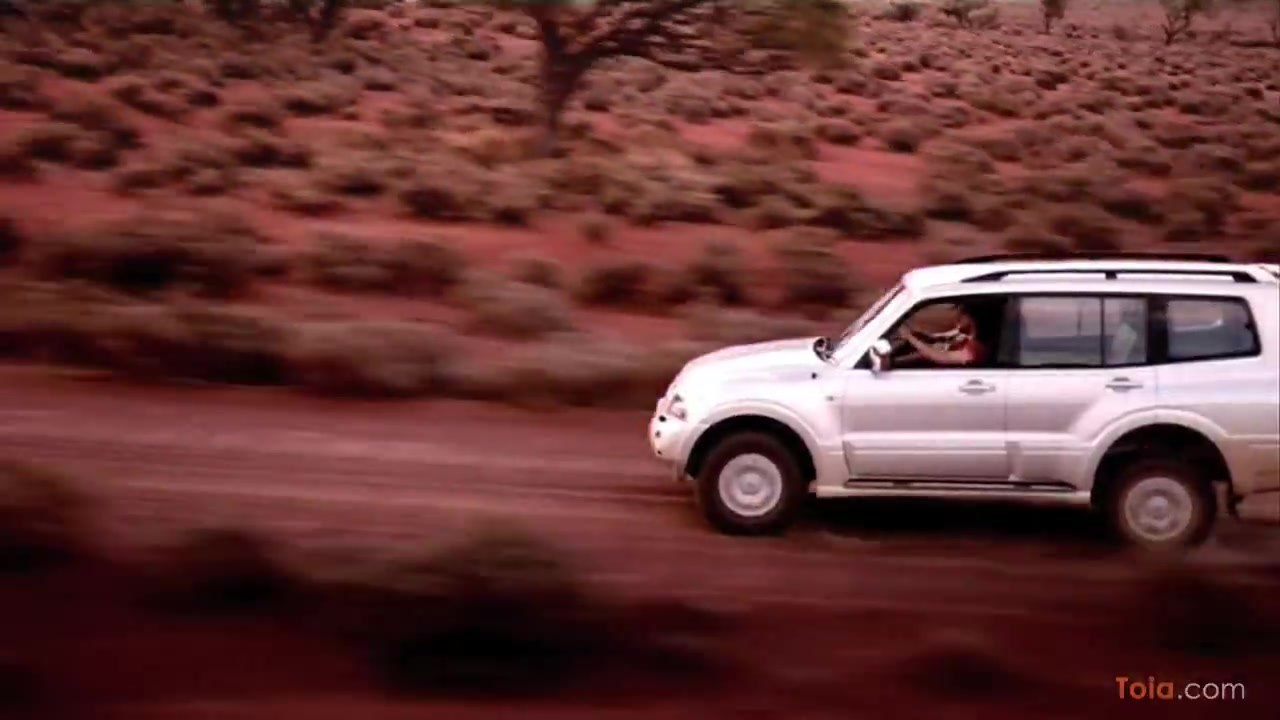car: (649, 252, 1280, 559)
